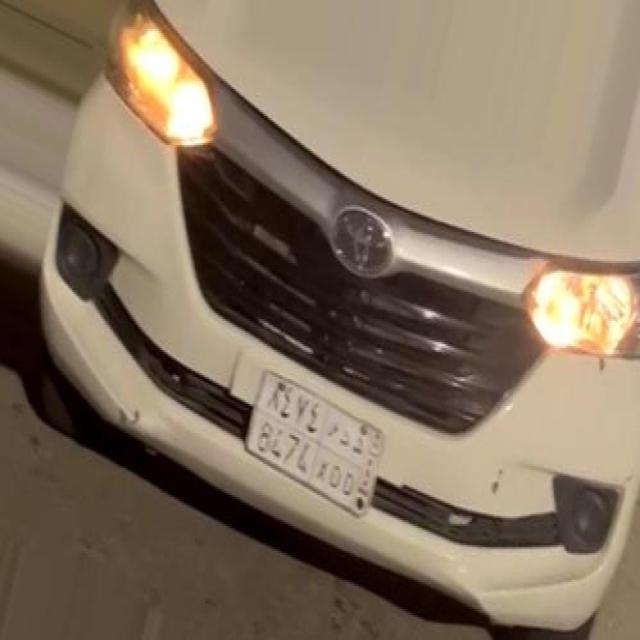Car-plate: (223, 348, 403, 543)
